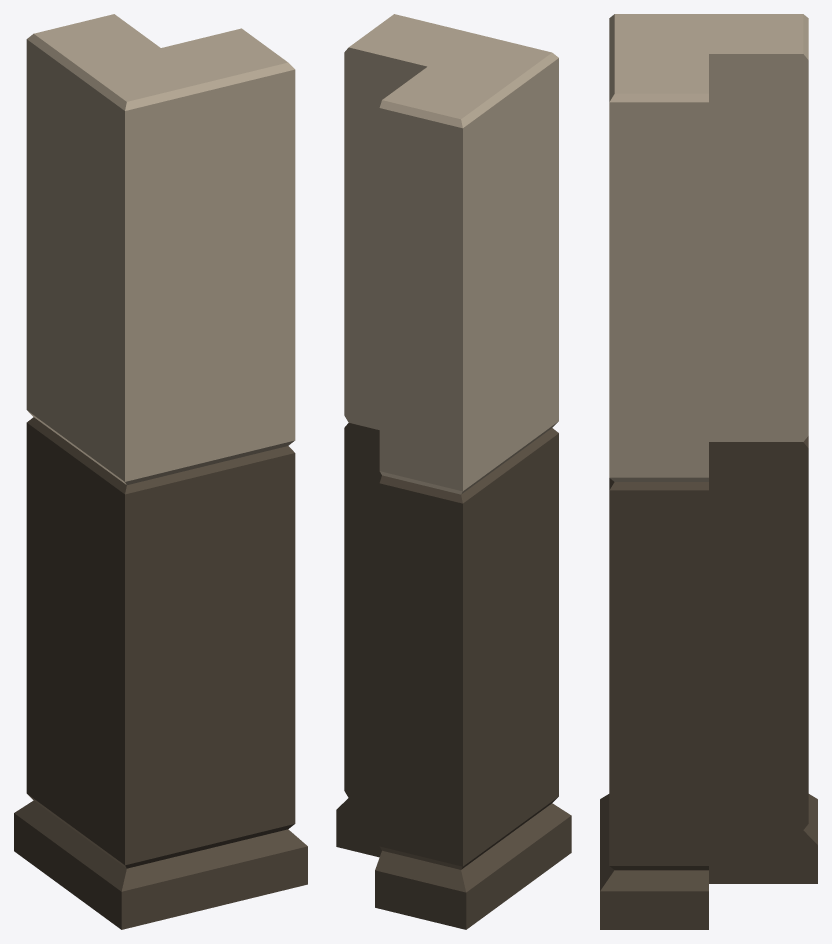
Rendered from Pillar_Exterior_Floor_02.glb.
3 renders of one model, left to right at view 1: azimuth 30°, elevation 25°; view 2: azimuth 150°, elevation 25°; view 3: azimuth 270°, elevation 25°, orthographic. The views are drawn at different scales.
Visible parts, largest first — view 1: SM_Env_Pillar_Exterior_Floor_02; view 2: SM_Env_Pillar_Exterior_Floor_02; view 3: SM_Env_Pillar_Exterior_Floor_02.
Boxes of the visible parts, x1,y1,x2,y2 form: SM_Env_Pillar_Exterior_Floor_02: [14, 14, 307, 929]; SM_Env_Pillar_Exterior_Floor_02: [336, 14, 571, 929]; SM_Env_Pillar_Exterior_Floor_02: [600, 14, 817, 929].
Bounding box in the file's own units: 0.7137 × 3 × 0.7137.
1 material, 1 textured.
